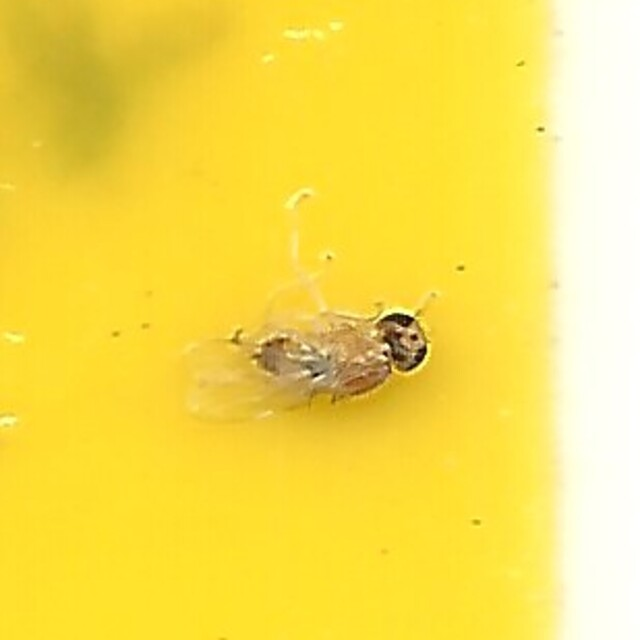Brachycera: (207, 201, 433, 439)
